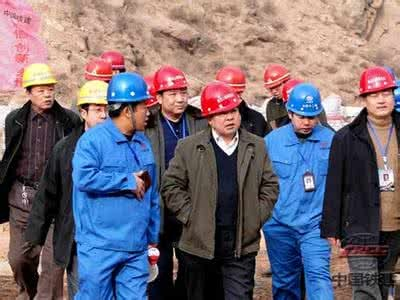blue: (104, 72, 151, 132), (285, 83, 322, 136)
red: (196, 79, 242, 138), (357, 67, 397, 119), (152, 66, 190, 117), (262, 63, 290, 100)
yellow: (21, 62, 58, 112), (75, 79, 111, 129)
